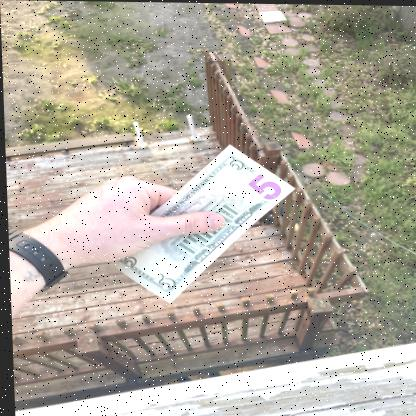five-back: (118, 138, 303, 306)
